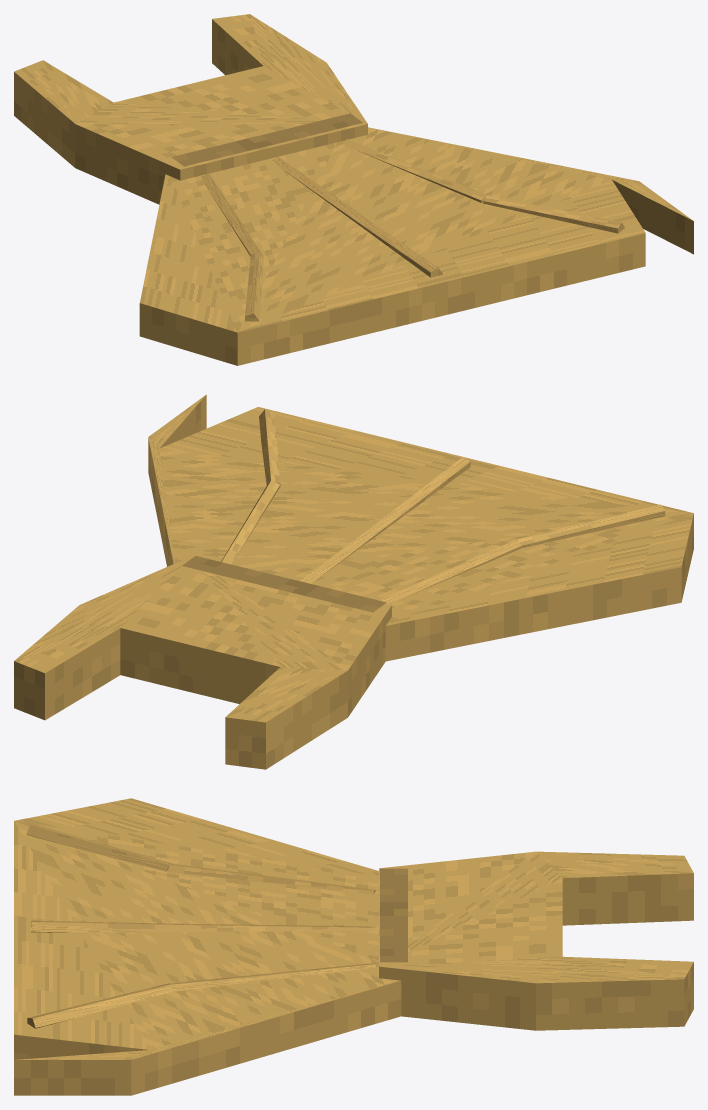
The model's file is sundress.glb.
3 renders of one model, top to bottom at view 1: azimuth 30°, elevation 25°; view 2: azimuth 150°, elevation 25°; view 3: azimuth 270°, elevation 25°, orthographic. The views are drawn at different scales.
Parts seen in each view (by area): view 1: block_skirt panel, block_fitted bodice, block_fabric fold 1 (×3), block_fabric fold 0 (×3), block_gathered waist; view 2: block_skirt panel, block_fitted bodice, block_fabric fold 1 (×3), block_fabric fold 0 (×3), block_gathered waist; view 3: block_skirt panel, block_fitted bodice, block_fabric fold 1 (×3), block_fabric fold 0 (×3), block_gathered waist.
Part boxes in pixels (x1,y1,x2,y2): block_skirt panel: [139, 127, 693, 365]; block_fitted bodice: [14, 14, 367, 204]; block_fabric fold 1 (×3): [245, 195, 624, 321]; block_fabric fold 0 (×3): [201, 139, 486, 256]; block_gathered waist: [171, 113, 362, 166]; block_skirt panel: [148, 394, 693, 661]; block_fitted bodice: [14, 556, 391, 769]; block_fabric fold 1 (×3): [259, 409, 665, 547]; block_fabric fold 0 (×3): [221, 481, 521, 604]; block_gathered waist: [182, 556, 386, 612]; block_skirt panel: [14, 798, 401, 1095]; block_fitted bodice: [379, 851, 693, 1030]; block_fabric fold 1 (×3): [26, 824, 172, 1028]; block_fabric fold 0 (×3): [168, 864, 376, 991]; block_gathered waist: [380, 868, 407, 962].
Bounding box in the file's own units: 0.5008 × 0.044 × 0.55.
1 material, 1 textured.
